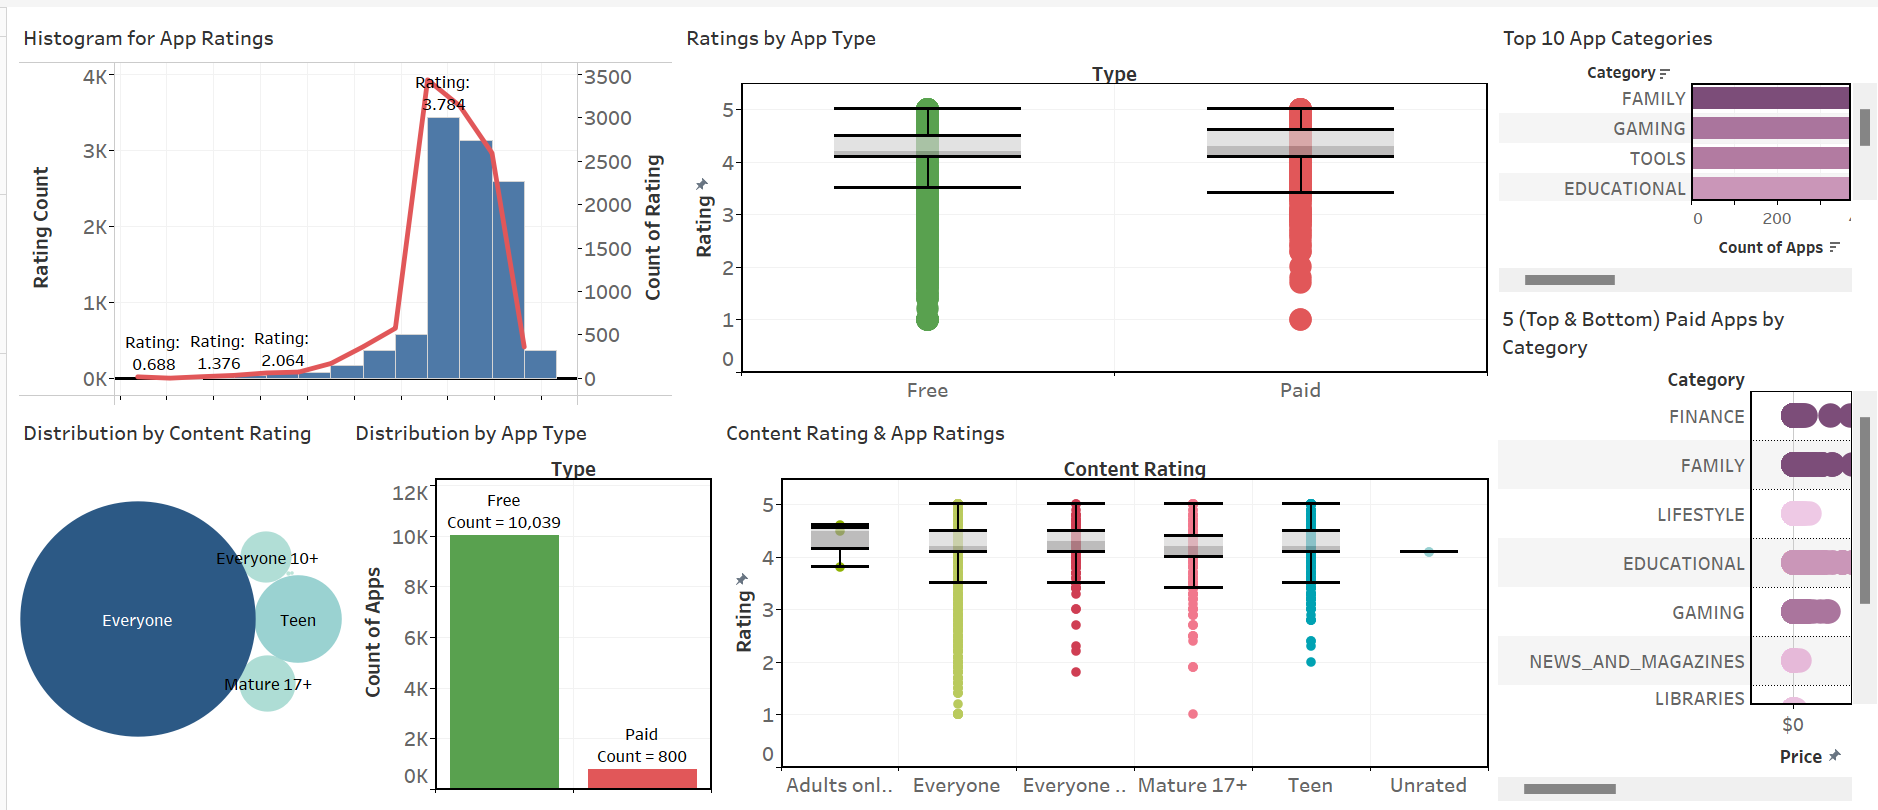

What the dashboard file says about the page in this screenshot:
{"tool":"tableau","page":{"name":"Dashboard","canvas":[1000,1000],"units":"permille","ordinal":0},"visuals":[{"type":"worksheet","title":"Sheet 7","mark":"Automatic","rows":["Rating","Rating"],"cols":["Rating (bin)"],"box":[4.8,9.9,351.6,490.1]},{"type":"worksheet","title":"Sheet 2","mark":"Circle","rows":["Rating"],"cols":["Type"],"box":[356.4,9.9,433.3,490.1]},{"type":"worksheet","title":"Sheet 5","mark":"Automatic","rows":["Category"],"cols":["googleplaystore_AF2F6076DE584CCDA7AB73A1AEF4D320"],"box":[789.7,9.9,205.5,348.6]},{"type":"worksheet","title":"Sheet 6","mark":"Circle","rows":["Category"],"cols":["Price"],"box":[789.7,358.6,205.5,631.5]},{"type":"worksheet","title":"Sheet 3","mark":"Circle","box":[4.8,500,175.5,490.1]},{"type":"worksheet","title":"Sheet 1","mark":"Automatic","rows":["googleplaystore_AF2F6076DE584CCDA7AB73A1AEF4D320"],"cols":["Type"],"box":[180.3,500,197.1,490.1]},{"type":"worksheet","title":"Sheet 4","mark":"Circle","rows":["Rating"],"cols":["Content_Rating"],"box":[377.4,500,412.3,490.1]}]}

Visuals, with their boxes on the dashboard's canvas, which has no fixed pixel size, in thousandths of its width and height (x1, y1, x2, y2). These are canvas units, not pixel positions in the 1878x810 screenshot, which may show the page scaled, cropped or inside an application window:
"Sheet 7" worksheet: bbox(5, 10, 356, 500)
"Sheet 2" worksheet (Circle marks): bbox(356, 10, 790, 500)
"Sheet 5" worksheet: bbox(790, 10, 995, 358)
"Sheet 6" worksheet (Circle marks): bbox(790, 359, 995, 990)
"Sheet 3" worksheet (Circle marks): bbox(5, 500, 180, 990)
"Sheet 1" worksheet: bbox(180, 500, 377, 990)
"Sheet 4" worksheet (Circle marks): bbox(377, 500, 790, 990)
